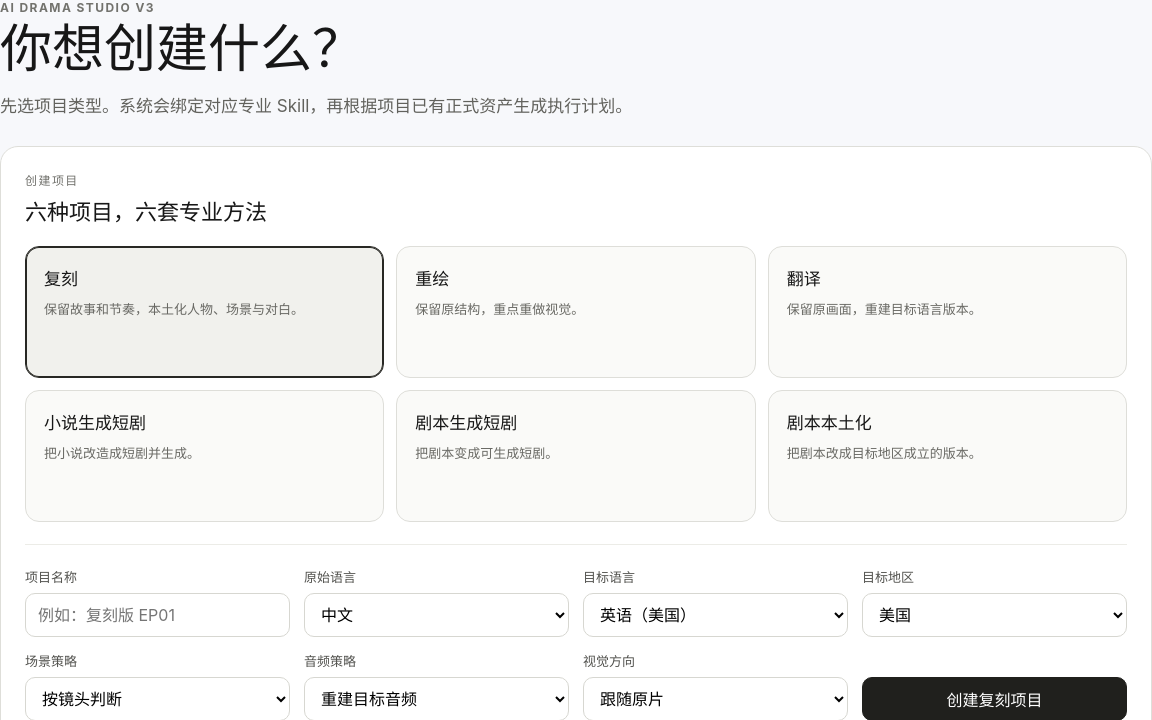
Test case: HomeView › creates a project then explicitly compiles the persisted plan
The image size is (1152, 720).
Type "美国版 EP01" into the field labelled "项目名称" at [158, 615], box [25,593,290,637]
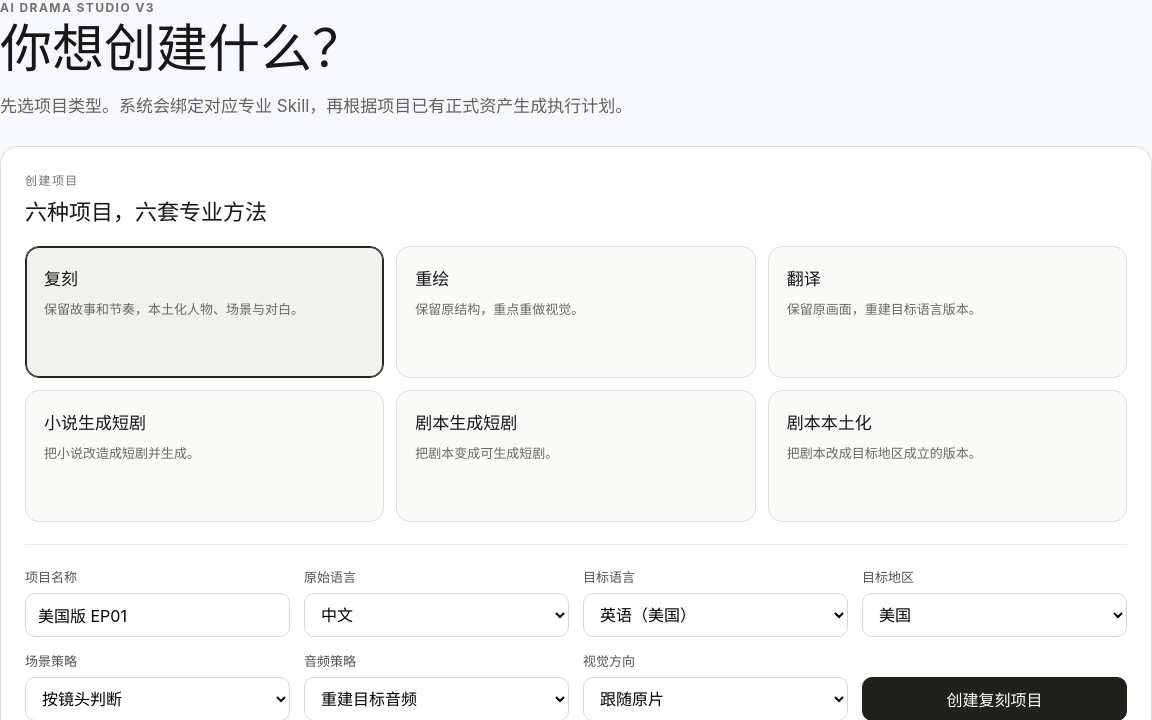
Submit the form, box [25,544,1127,719]
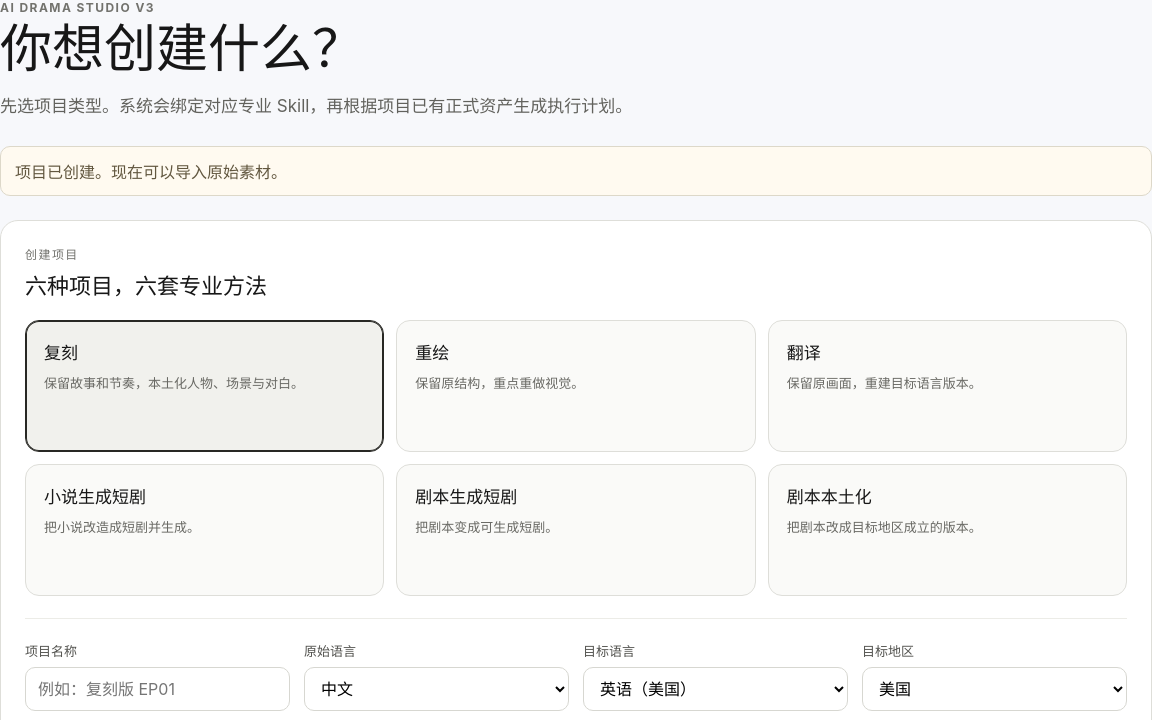
Now the text "项目已创建。现在可以导入原始素材。" is shown, box [0,146,1151,196]
